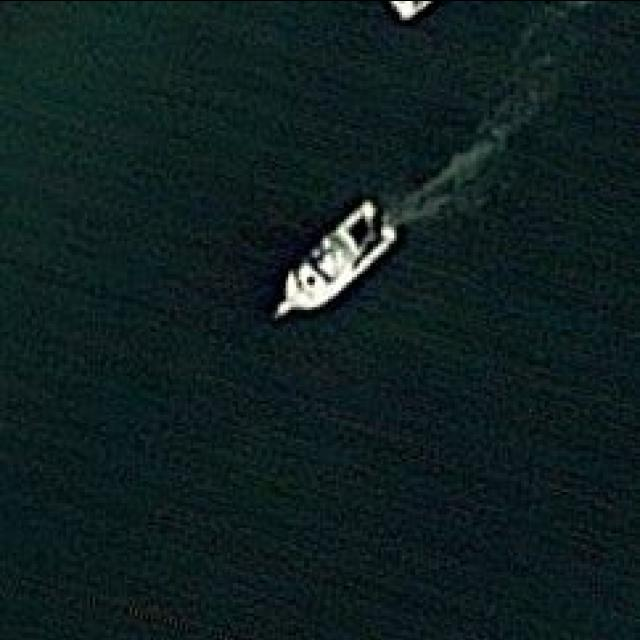ship: (269, 201, 396, 323)
